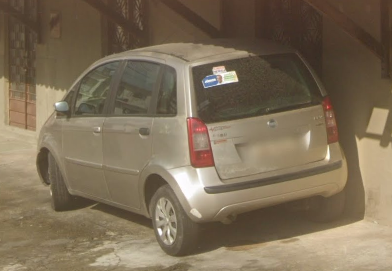car: (36, 34, 349, 251)
